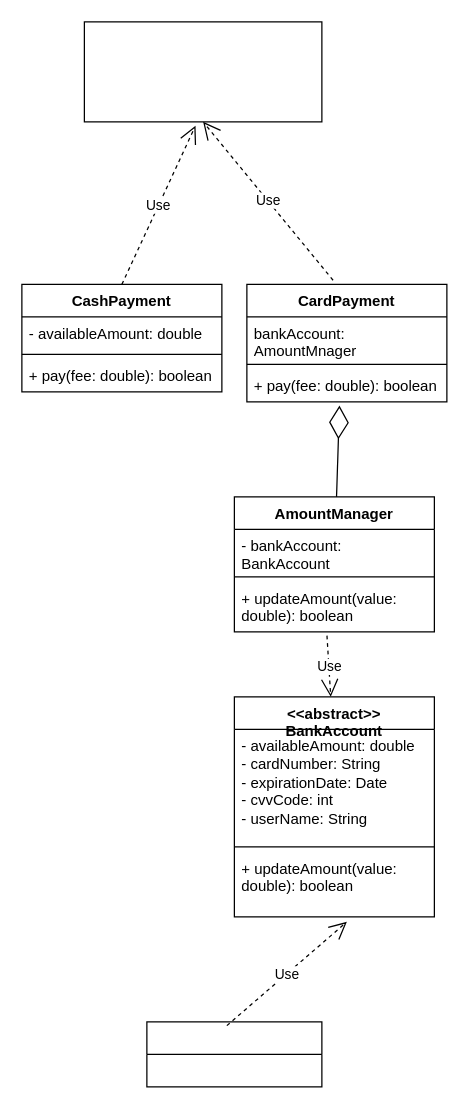
Some shapes in this 469 by 1109 pixel diagram are drawn without their labels. Each missing label, with the centre of its shape:
"<<Interface>> PaymentMethod + pay(fee: double): boolean" belongs at pixel 202 71.
"AccountPersonal" belongs at pixel 234 1054.
